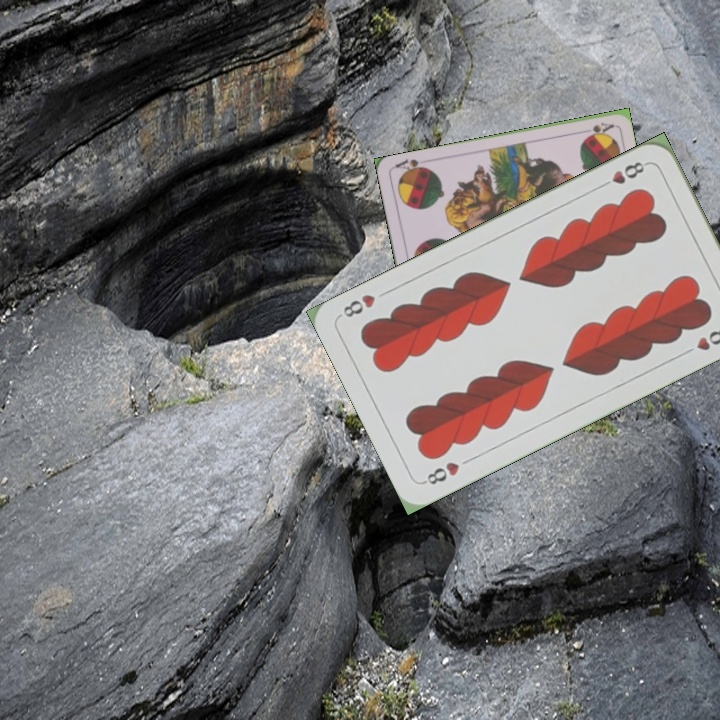H8: (595, 157, 651, 191), (419, 457, 463, 488)
SA: (583, 119, 616, 139)
